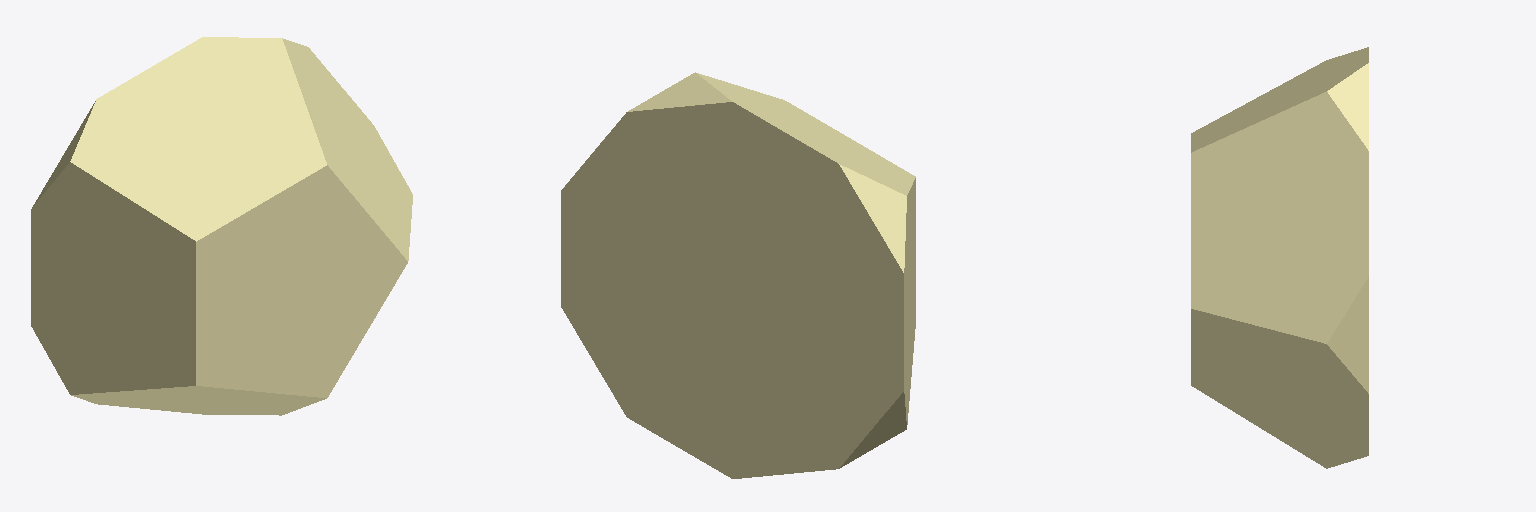
File: semi-dodecahedron.obj
3 renders of one model, left to right at view 1: azimuth 30°, elevation 25°; view 2: azimuth 150°, elevation 25°; view 3: azimuth 270°, elevation 25°, orthographic.
Visible parts, largest first — view 1: mesh5, mesh6, mesh3, mesh9, mesh1, mesh4; view 2: mesh8, mesh6, mesh4, mesh3, mesh7, mesh2; view 3: mesh9, mesh10, mesh6, mesh11, mesh7.
Boxes of the visible parts, box(x1,y1,x2,y2) form: mesh5: box(196, 165, 407, 397); mesh6: box(70, 37, 326, 241); mesh3: box(31, 162, 195, 394); mesh9: box(282, 38, 412, 260); mesh1: box(71, 386, 326, 415); mesh4: box(32, 101, 95, 207); mesh8: box(561, 102, 903, 478); mesh6: box(695, 72, 915, 195); mesh4: box(839, 164, 906, 272); mesh3: box(904, 178, 915, 424); mesh7: box(628, 73, 731, 111); mesh2: box(839, 392, 906, 468); mesh9: box(1191, 92, 1368, 343); mesh10: box(1191, 309, 1368, 468); mesh6: box(1191, 47, 1368, 152); mesh11: box(1327, 277, 1368, 393); mesh7: box(1327, 63, 1368, 150).
Size of the model in its own units: 0.2621 by 0.2618 by 0.1114.